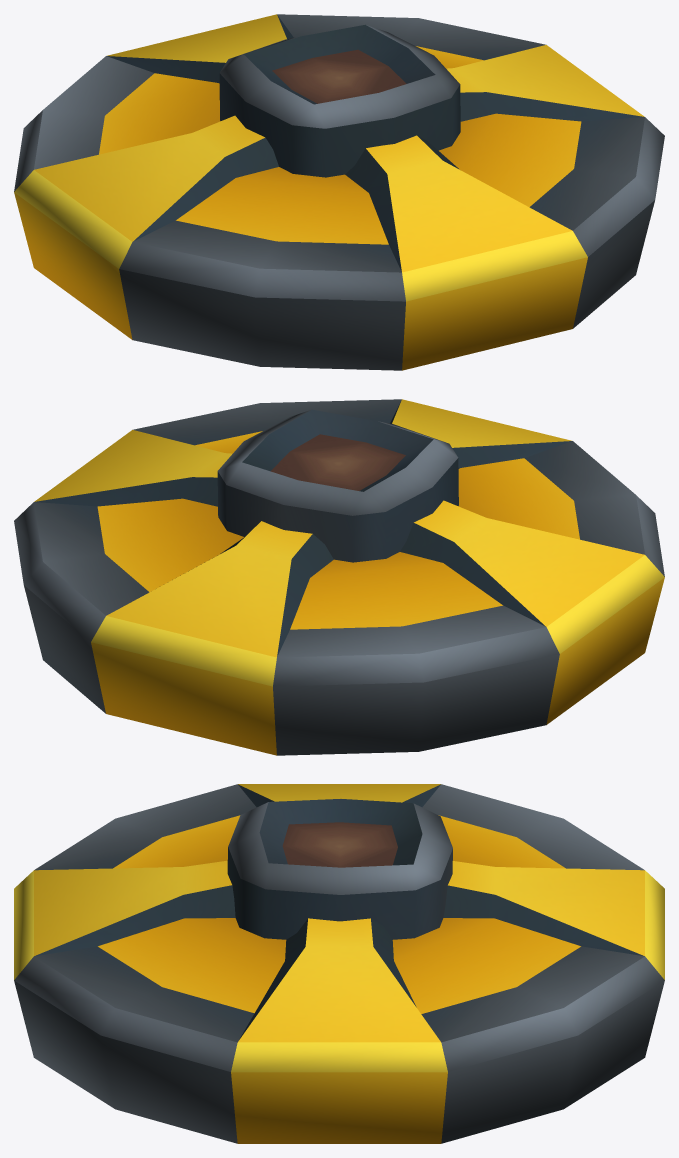
Rendered from mine_land.fbx.
3 renders of one model, top to bottom at view 1: azimuth 30°, elevation 25°; view 2: azimuth 150°, elevation 25°; view 3: azimuth 270°, elevation 25°, orthographic. The views are drawn at different scales.
Visible parts, largest first — view 1: mine_land; view 2: mine_land; view 3: mine_land.
Boxes of the visible parts, bbox=[...] form: mine_land: bbox=[14, 14, 664, 370]; mine_land: bbox=[14, 399, 664, 755]; mine_land: bbox=[14, 784, 664, 1143].
Size of the model in its own units: 93.02 by 37.38 by 93.02.
